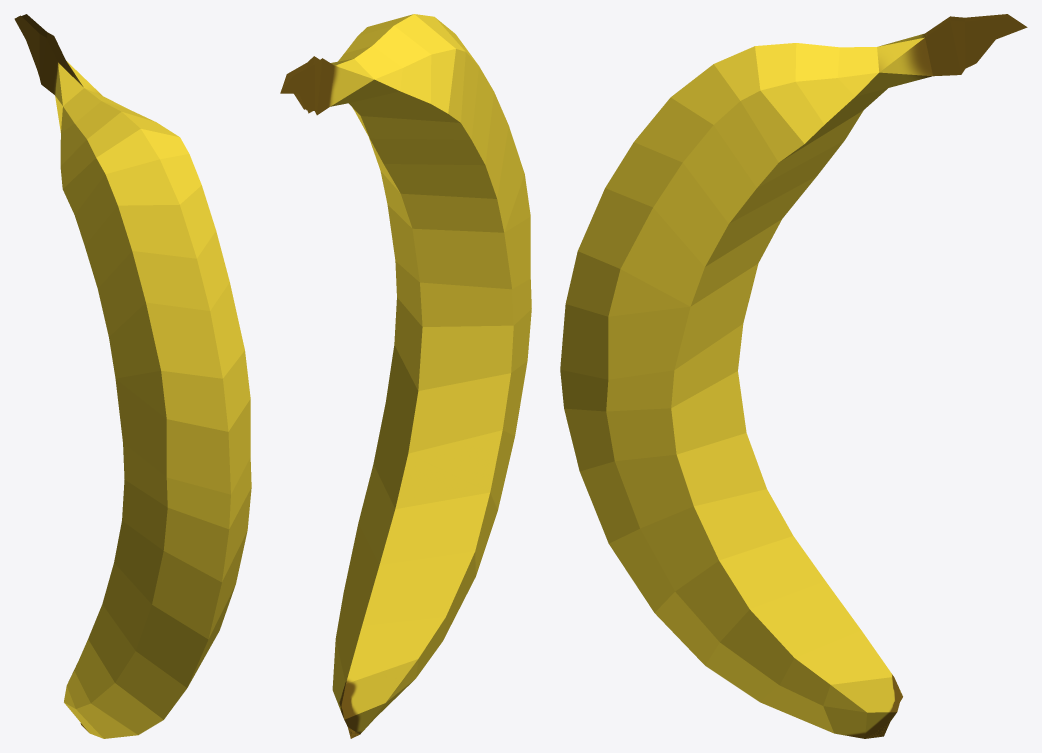
The model's file is Banana.fbx.
3 renders of one model, left to right at view 1: azimuth 30°, elevation 25°; view 2: azimuth 150°, elevation 25°; view 3: azimuth 270°, elevation 25°, orthographic. The views are drawn at different scales.
Visible parts, largest first — view 1: Cylinder; view 2: Cylinder; view 3: Cylinder.
Boxes of the visible parts, <box> form: Cylinder: <box>14,14,251,738</box>; Cylinder: <box>280,14,531,738</box>; Cylinder: <box>560,14,1027,738</box>.
Bounding box in the file's own units: 72.55 × 422 × 247.
1 material, 1 textured.
